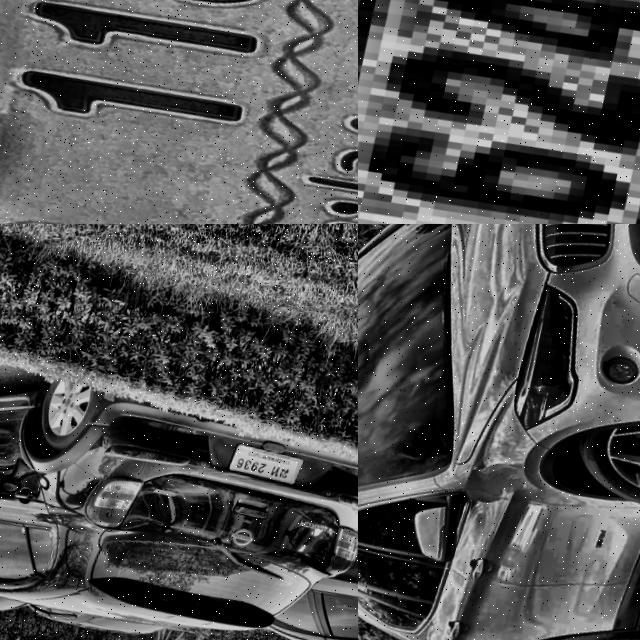license-plate: (0, 0, 358, 224), (358, 0, 640, 224), (109, 406, 148, 444)
